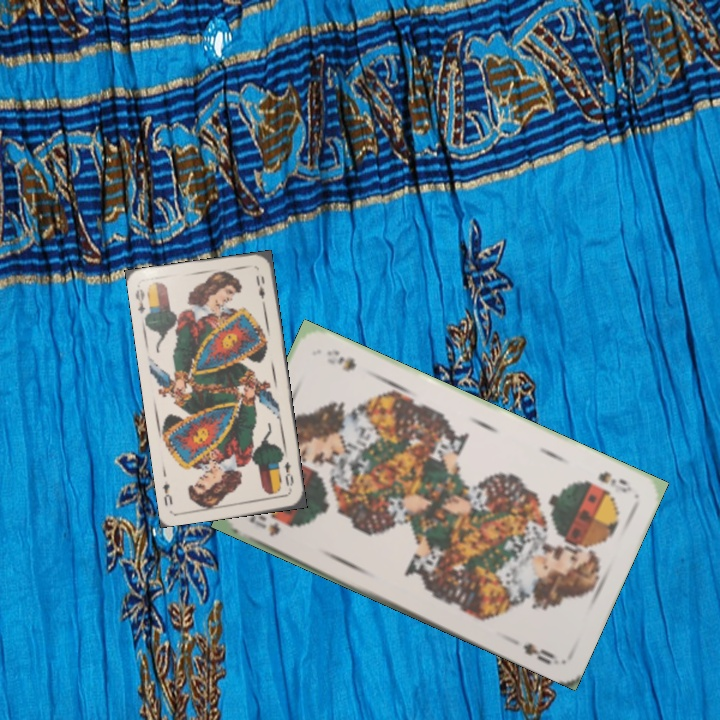EO: (279, 457, 296, 489), (131, 285, 148, 316)
SO: (594, 467, 634, 495), (245, 510, 283, 539)
